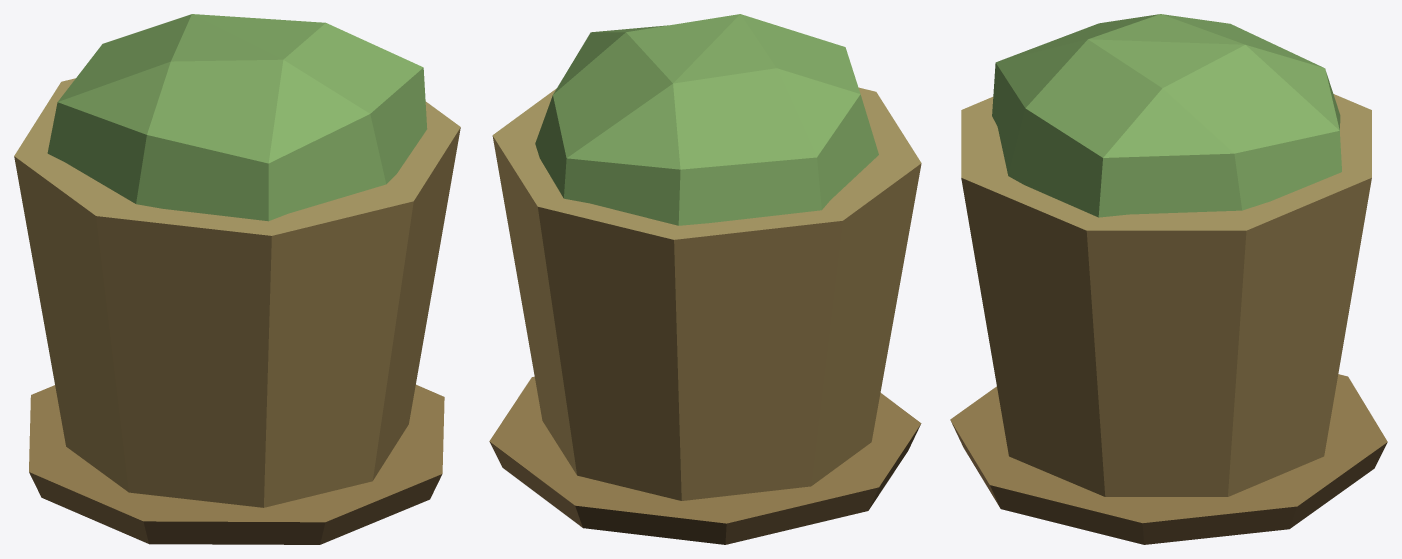
Rendered from vegetation_006.glb.
3 renders of one model, left to right at view 1: azimuth 30°, elevation 25°; view 2: azimuth 150°, elevation 25°; view 3: azimuth 270°, elevation 25°, orthographic. The views are drawn at different scales.
Parts seen in each view (by area): view 1: vegetation_006; view 2: vegetation_006; view 3: vegetation_006.
Boxes of the visible parts, x1=… form: vegetation_006: x1=14, y1=14, x2=460, y2=544; vegetation_006: x1=489, y1=14, x2=921, y2=544; vegetation_006: x1=950, y1=14, x2=1387, y2=544.
Size of the model in its own units: 0.7662 by 0.8137 by 0.7662.
1 material, 1 textured.
